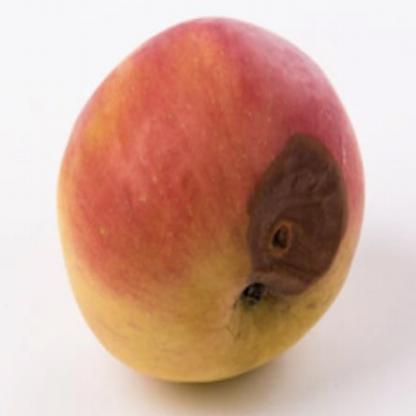apple_rotten: (50, 10, 373, 392)
